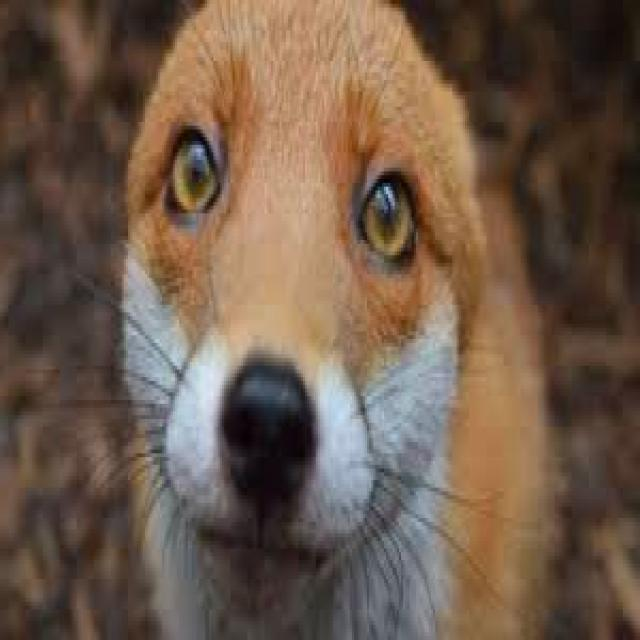fox: (126, 0, 555, 636)
